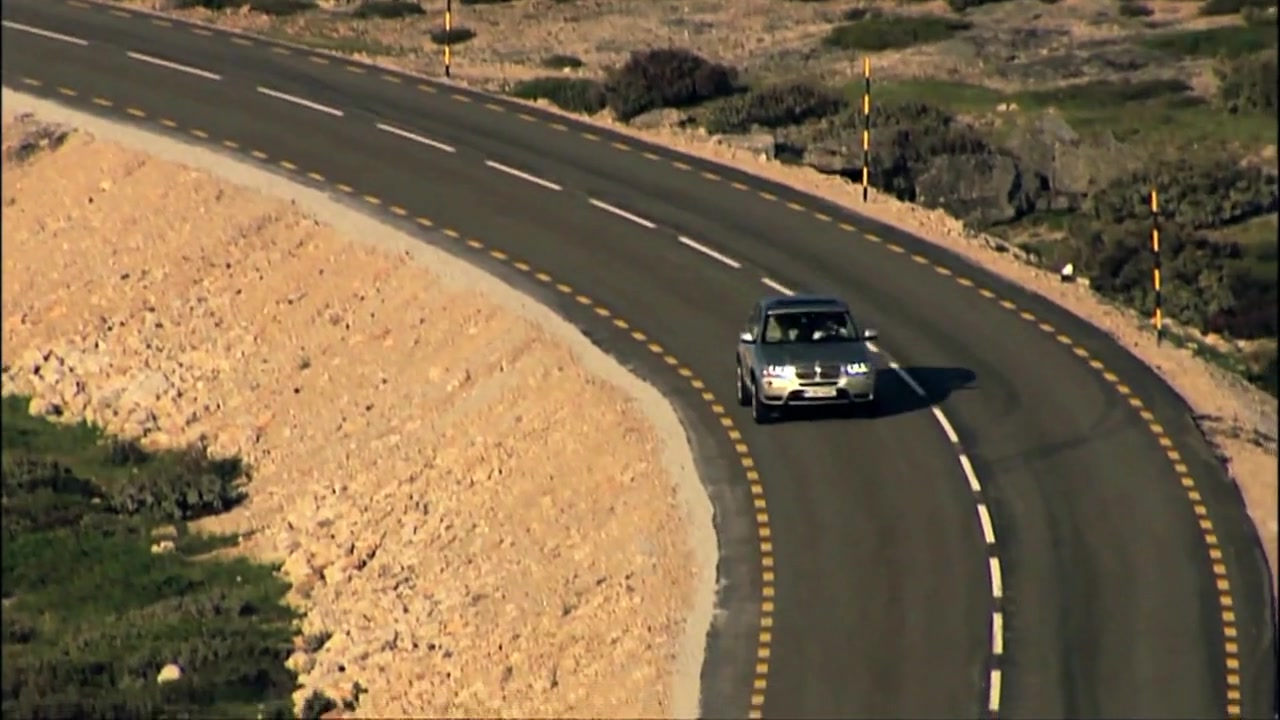car: (734, 295, 886, 425)
